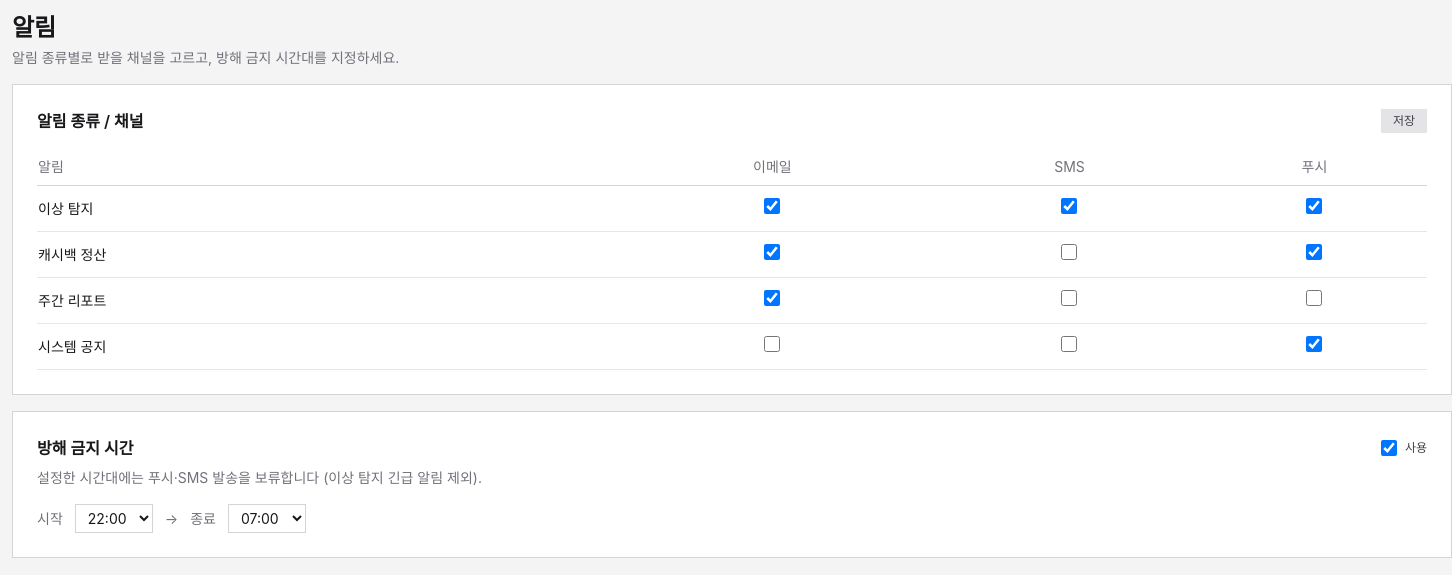
it: NotificationsPage › disables DnD selects when switch is turned off
Expected: the column heading "이상 탐지" is shown, [37, 186, 608, 232]
Expected: the dropdown labelled "시작" is enabled, [75, 504, 153, 533]
Click the switch at (1389, 448), box [1381, 440, 1397, 456]
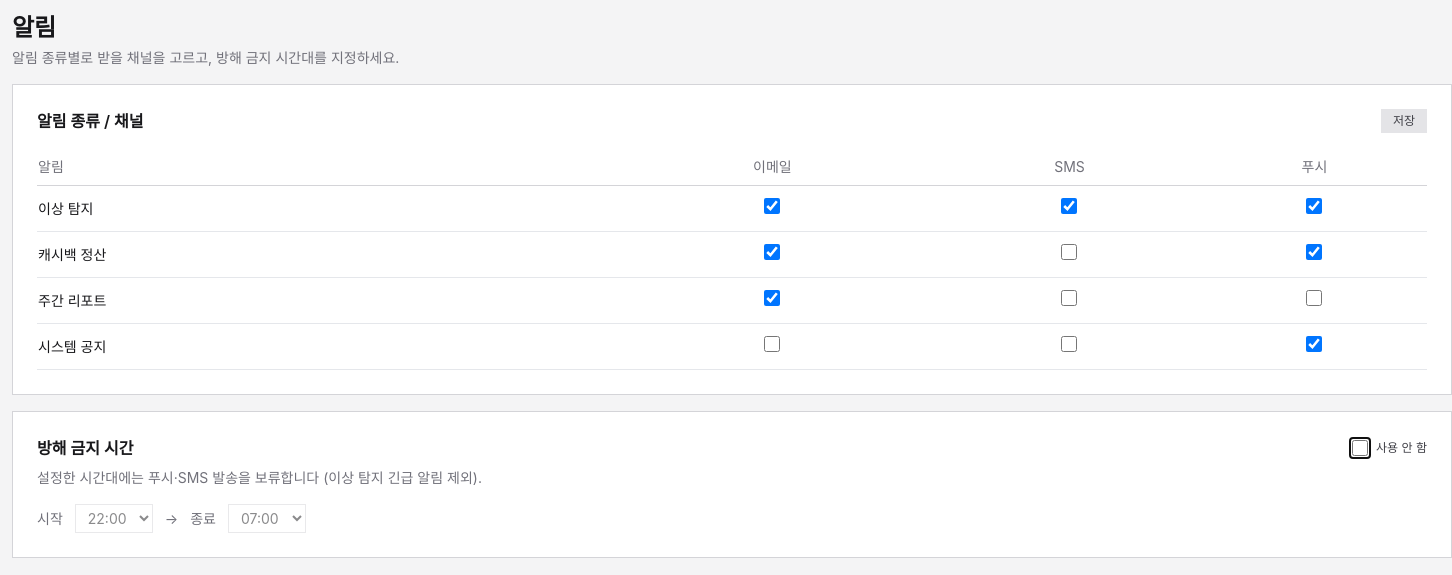
Expected: the dropdown labelled "시작" is disabled, [75, 504, 153, 533]
